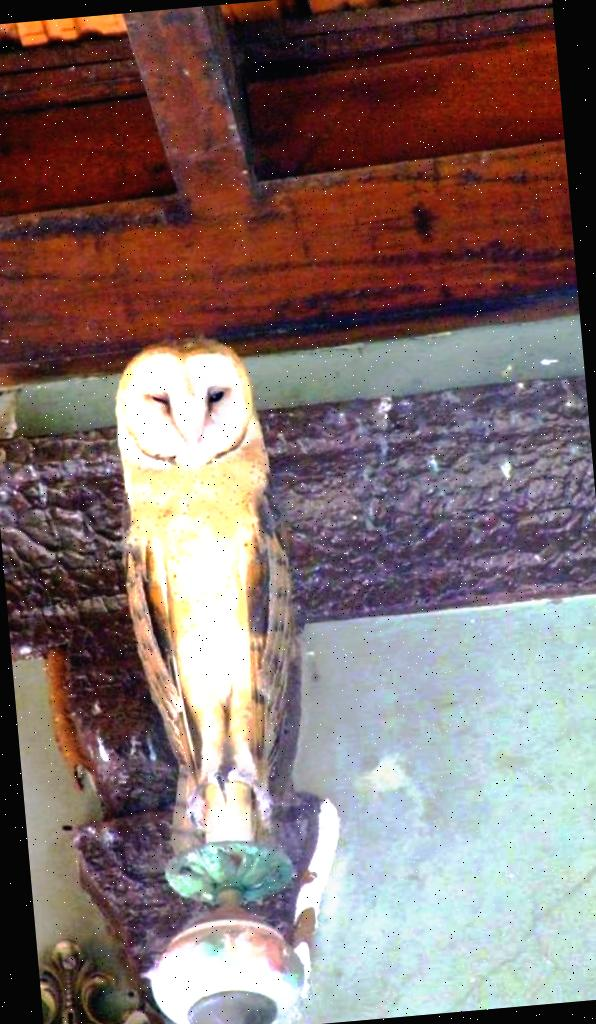Owl: (102, 318, 317, 841)
